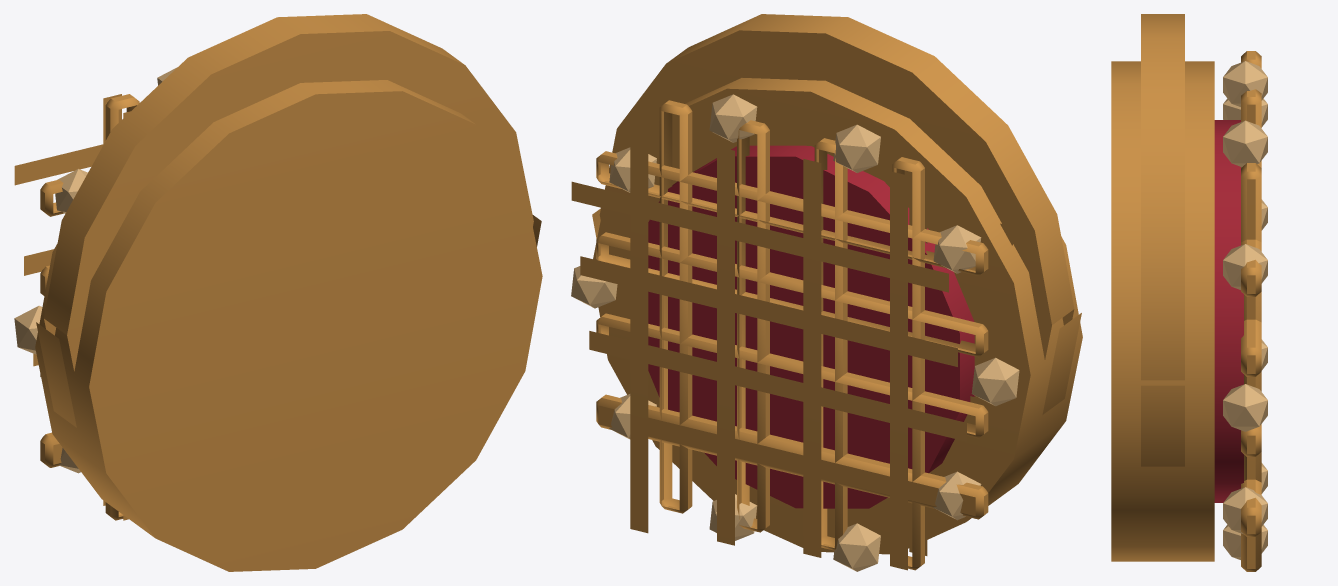
The model's file is item_pie.glb.
3 renders of one model, left to right at view 1: azimuth 30°, elevation 25°; view 2: azimuth 150°, elevation 25°; view 3: azimuth 270°, elevation 25°, orthographic. The views are drawn at different scales.
Visible parts, largest first — view 1: item_pie, item_pie_detail; view 2: item_pie, item_pie_detail; view 3: item_pie, item_pie_detail.
Boxes of the visible parts, bbox=[...] form: item_pie: bbox=[14, 14, 542, 571]; item_pie_detail: bbox=[14, 67, 177, 473]; item_pie: bbox=[571, 14, 1082, 570]; item_pie_detail: bbox=[571, 94, 1019, 571]; item_pie: bbox=[1111, 14, 1261, 571]; item_pie_detail: bbox=[1223, 61, 1267, 559].
Size of the model in its own units: 0.3618 by 0.375 by 0.144.
